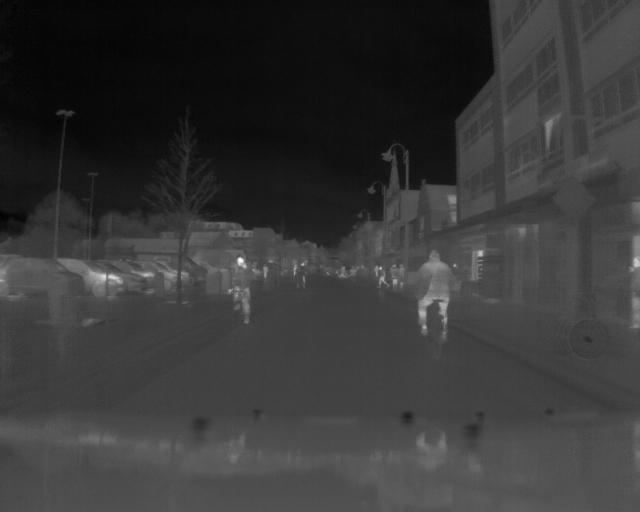car: (1, 255, 85, 301)
person: (414, 246, 455, 340), (232, 253, 254, 326), (377, 265, 388, 290), (399, 260, 408, 290), (390, 260, 398, 290)
